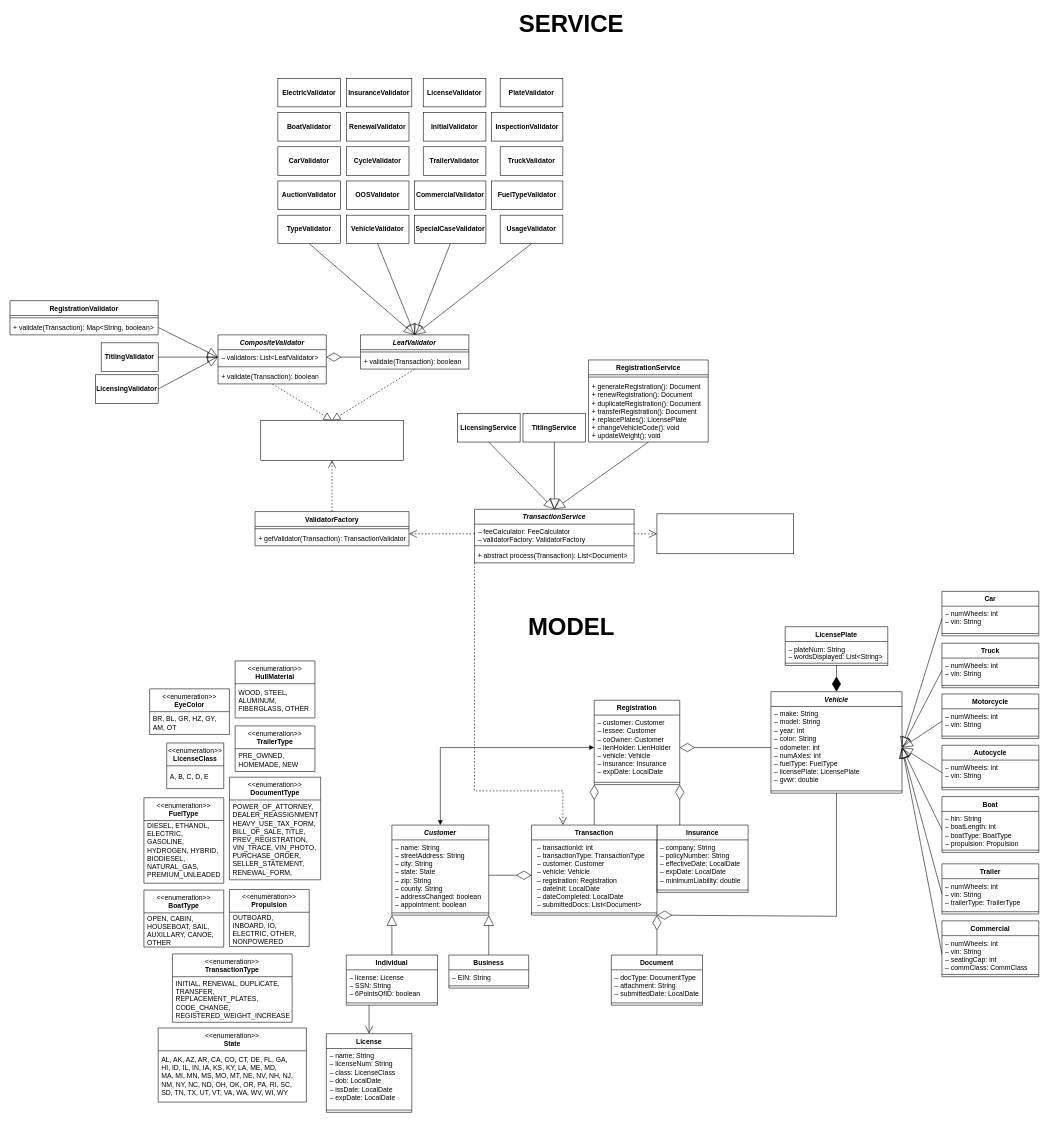
Image size: 1049x1122. Some labels were removed from this diagram. Each missing label, with the centre of its shape:
"<<Interface>> FeeCalculator + calculate(Map<String, boolean>): double" belongs at [725,533].
"<<Interface>> TransactionValidator + validate(Transaction): Map<String, boolean>" belongs at [331,440].
